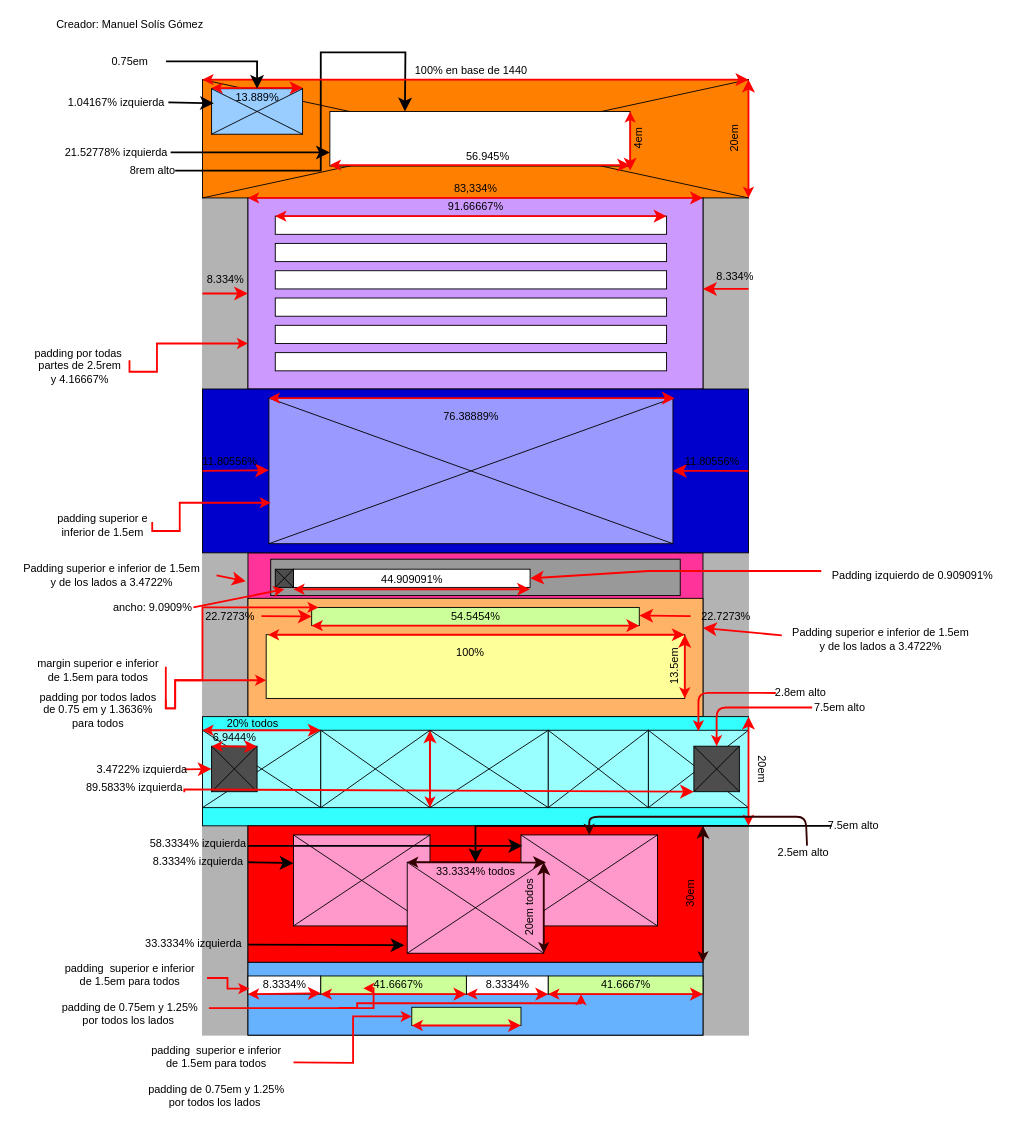
Image size: 1014x1124. Some labels were removed from this diagram. Each missing label, with the centre of its shape:
"14.4em todos" goes at [375,768].
"350px" goes at [466,1015].
